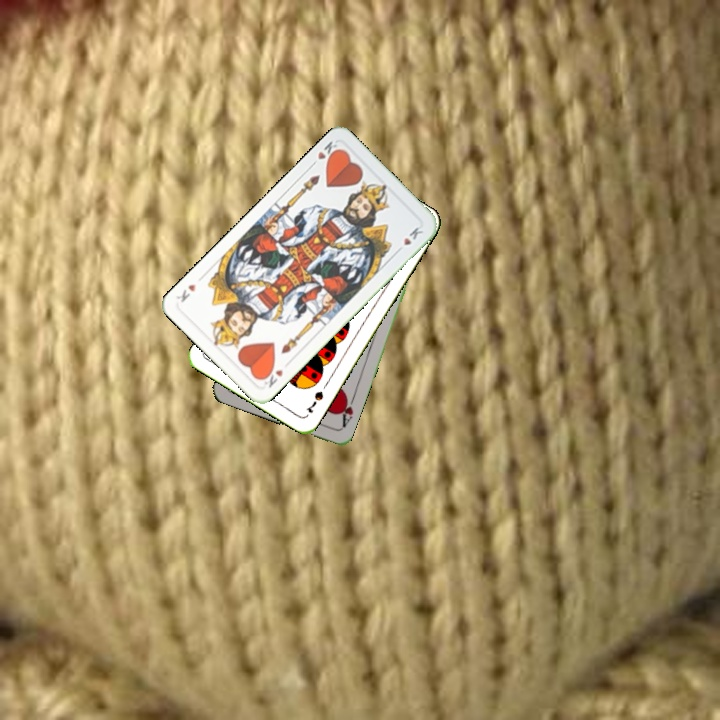HA: (335, 391, 358, 430)
HK: (306, 137, 343, 170), (258, 363, 286, 390)
S7: (302, 387, 326, 415)
